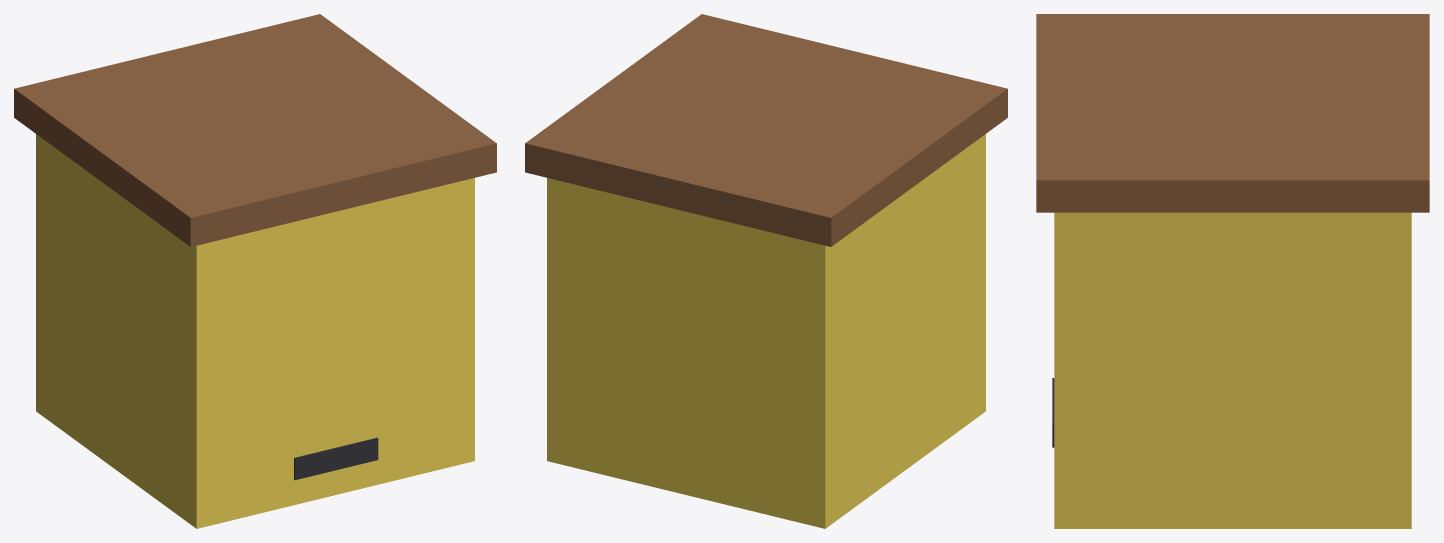
Rendered from sm_product_beehive.glb.
3 views of the same model, side by side, from view 1: azimuth 30°, elevation 25°; view 2: azimuth 150°, elevation 25°; view 3: azimuth 270°, elevation 25° (orthographic). The views are drawn at different scales.
Parts seen in each view (by area): view 1: beehive_0, beehive_1, beehive_2; view 2: beehive_0, beehive_1; view 3: beehive_0, beehive_1.
Part boxes in pixels (x1,y1,x2,y2): beehive_0: (36,134,474,528); beehive_1: (14,14,496,246); beehive_2: (294,437,378,480); beehive_0: (547,134,985,528); beehive_1: (525,14,1007,246); beehive_0: (1054,212,1411,528); beehive_1: (1036,14,1429,212).
Size of what is drawn, in the model's own units: 0.44 by 0.44 by 0.44.
